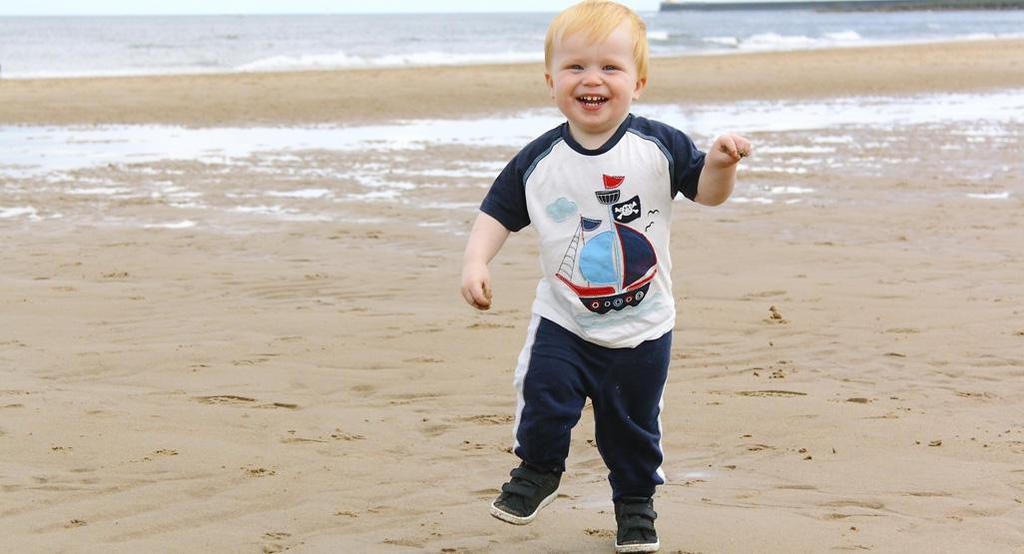child: (428, 1, 761, 550)
